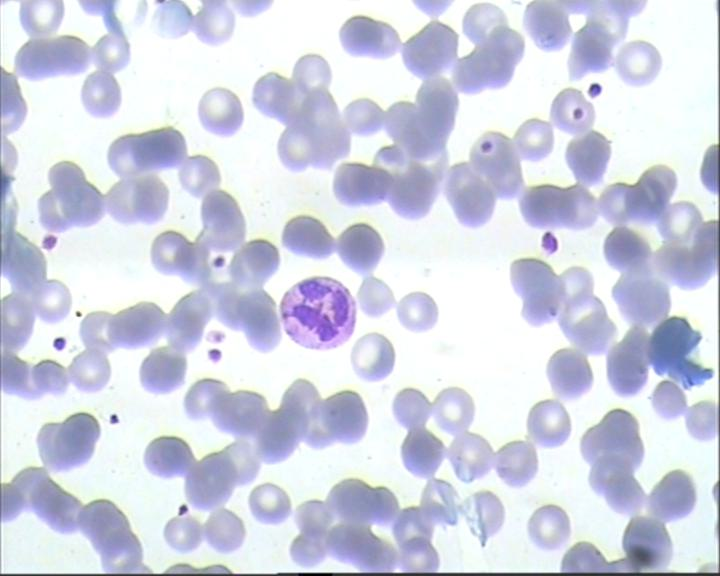neut: (278, 275, 361, 355)
